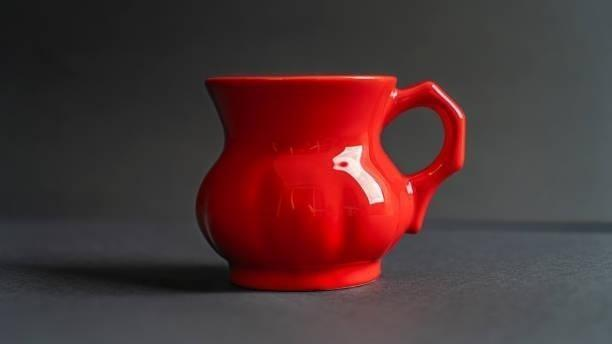cup-handle: (195, 72, 467, 293)
